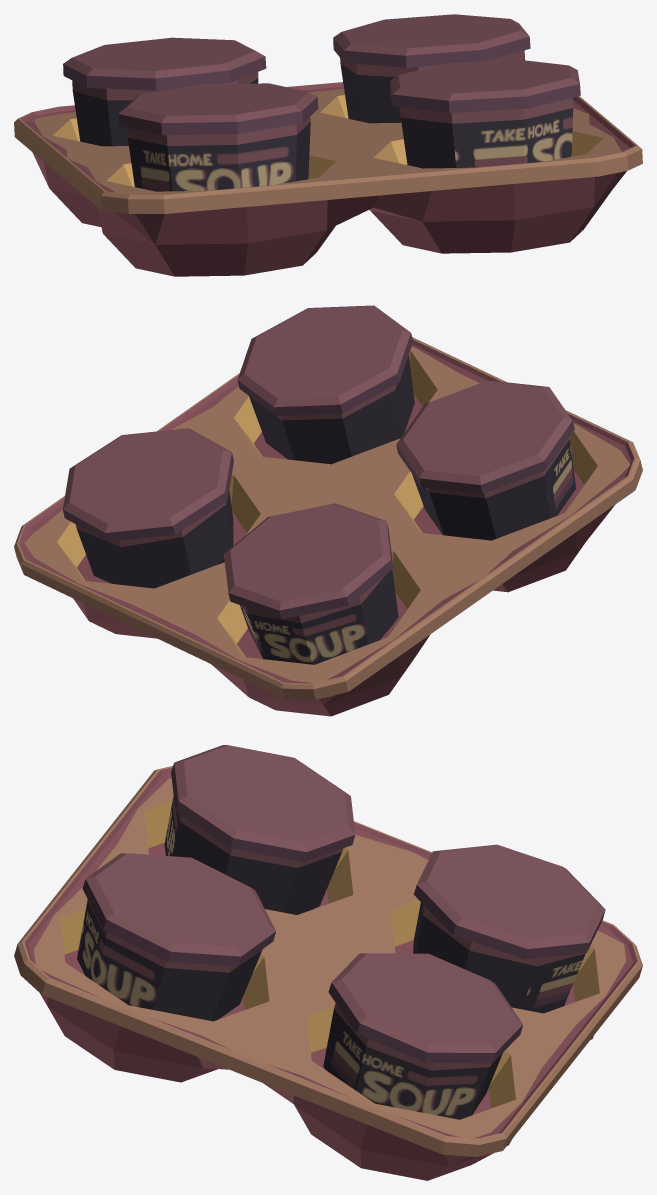
Rendered from SeasonsGriftings.Soup4Pack.fbx.
The picture shows the model from 3 angles, top to bottom: view 1: azimuth 30°, elevation 25°; view 2: azimuth 150°, elevation 25°; view 3: azimuth 270°, elevation 25°; orthographic projection. The views are drawn at different scales.
Parts seen in each view (by area): view 1: Soup4Pack; view 2: Soup4Pack; view 3: Soup4Pack.
Part boxes in pixels (box(x1,y1,x2,y2)): Soup4Pack: box(14, 14, 642, 276); Soup4Pack: box(14, 305, 642, 716); Soup4Pack: box(14, 745, 642, 1180).
Bounding box in the file's own units: 147 × 61.64 × 143.
